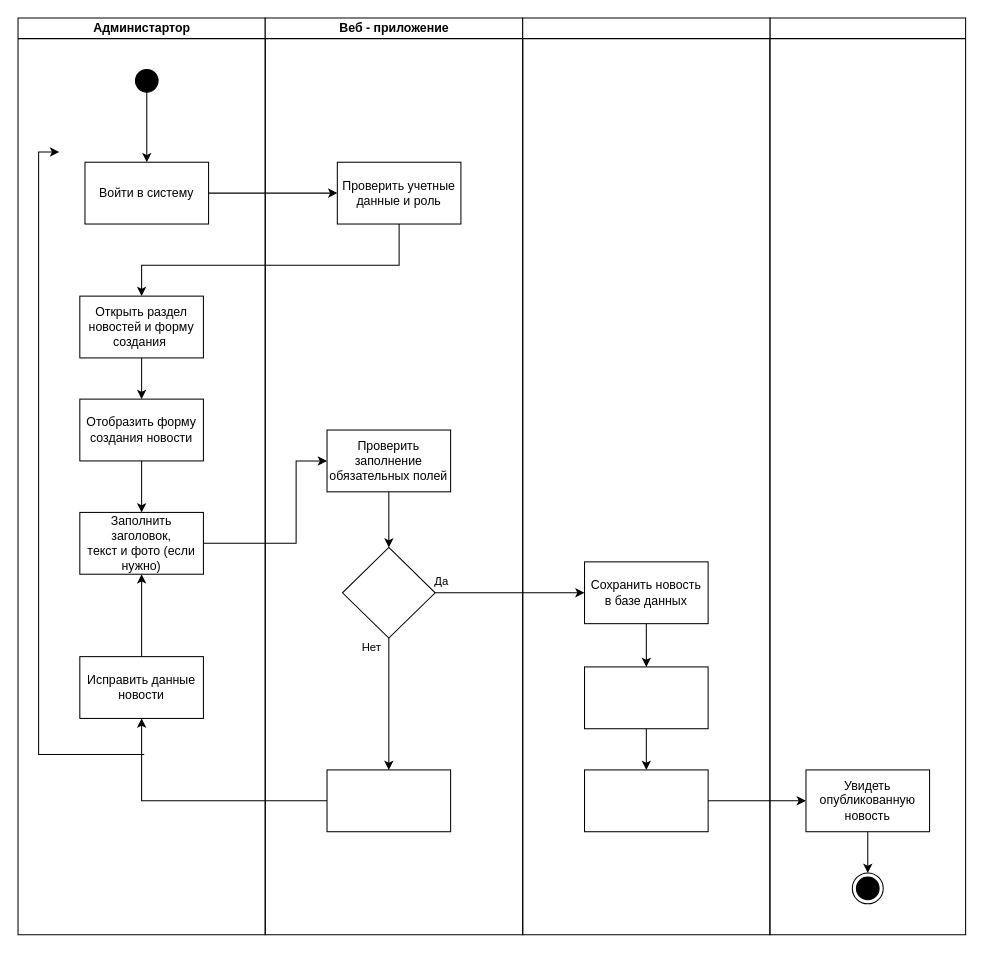
Some shapes in this 984 by 953 pixel diagram are drawn without their labels. Each missing label, with the box of its shape:
База данных: (522, 17, 770, 935)
Вернуть подтверждение сохранения: (583, 666, 708, 729)
Данные корректны?: (341, 546, 435, 638)
Опубликовать новость в интерфейсе пользователей: (583, 769, 708, 832)
Показать сообщение об ошибке: (326, 769, 451, 832)
Пользователь: (769, 17, 966, 935)
